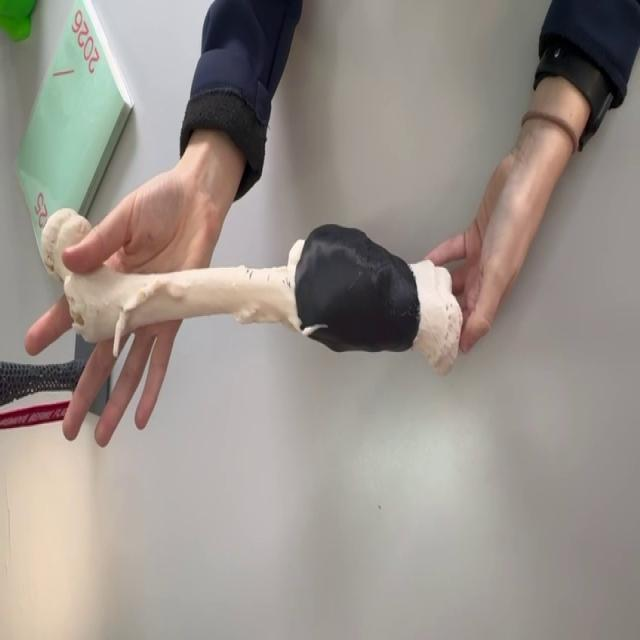bones: (42, 210, 462, 374)
